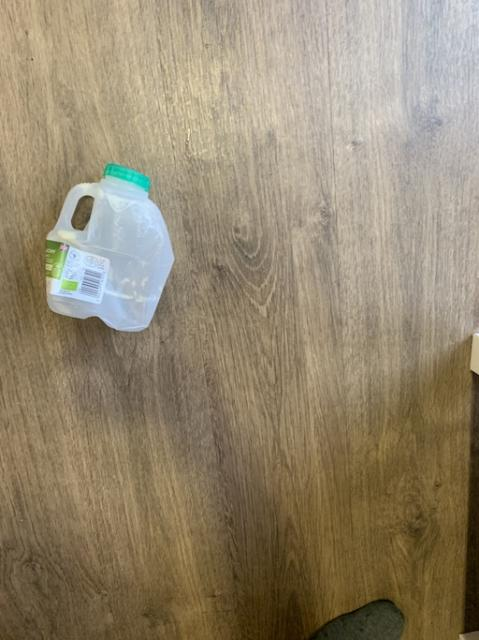plastic: (44, 162, 172, 329)
